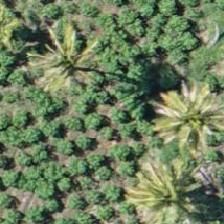coconut_tree: (21, 12, 111, 102), (14, 151, 104, 223), (158, 67, 223, 157), (127, 159, 217, 223)
